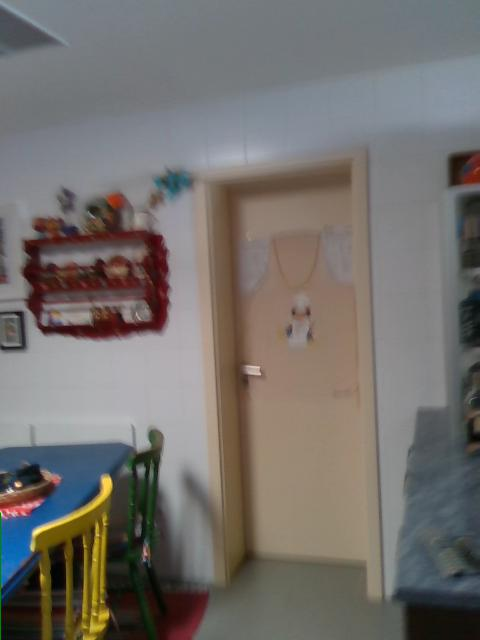door: (228, 175, 353, 559)
